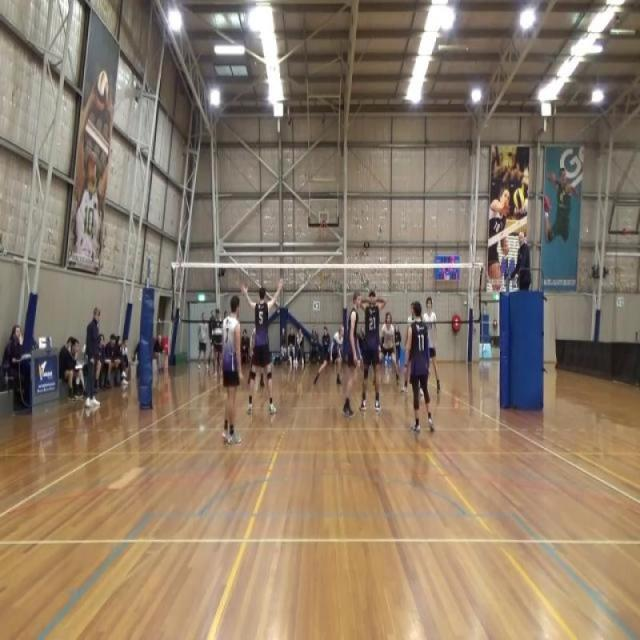volleyball: (93, 70, 112, 120), (512, 186, 526, 212)
